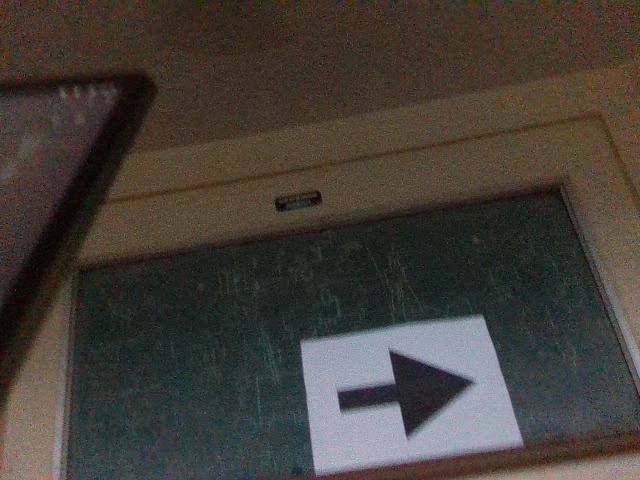Right: (328, 344, 479, 442)
